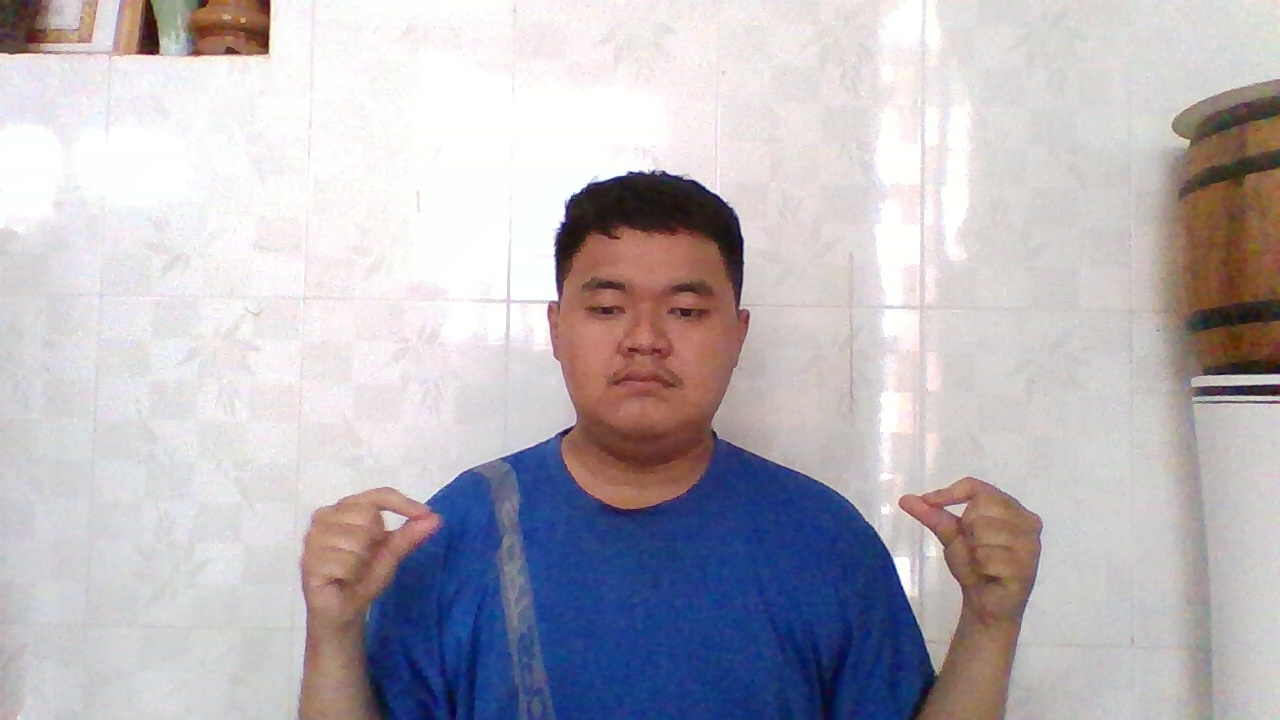S: (892, 468, 1048, 622), (292, 478, 449, 631)
